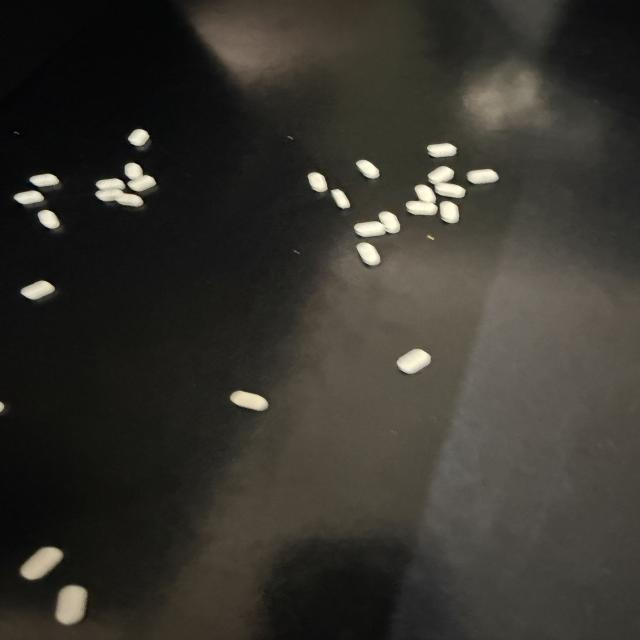pill: (20, 547, 63, 580), (55, 585, 87, 625), (397, 349, 431, 373), (230, 391, 268, 410), (21, 281, 54, 299), (357, 243, 380, 265), (354, 221, 386, 236), (128, 175, 156, 192), (435, 183, 465, 198), (428, 166, 454, 183), (379, 212, 400, 233), (356, 160, 379, 179), (406, 201, 437, 215), (467, 169, 498, 183), (427, 143, 457, 157), (115, 191, 143, 206), (440, 201, 459, 223), (38, 210, 59, 229), (14, 191, 44, 204), (29, 174, 59, 187), (308, 172, 327, 192), (331, 190, 350, 209), (128, 129, 149, 146), (96, 178, 125, 190), (415, 185, 435, 202), (96, 189, 122, 201), (125, 163, 143, 179), (0, 402, 5, 413), (427, 235, 434, 240)
